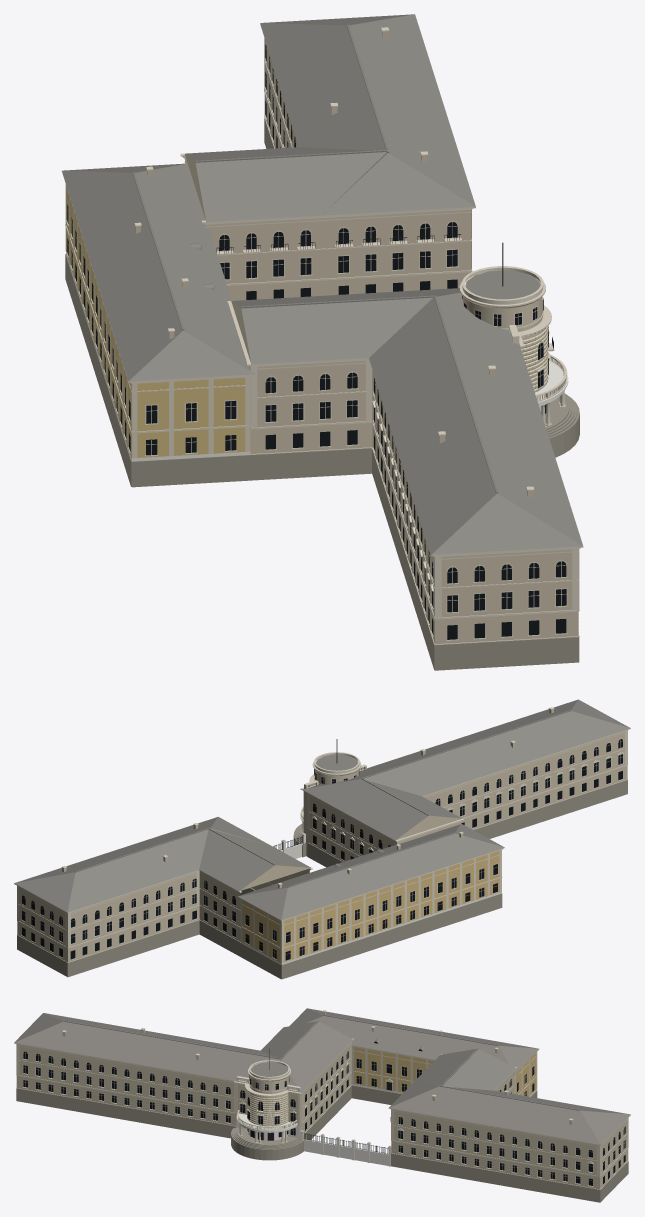
The model's file is sevgu_gogolya14.glb.
The picture shows the model from 3 angles, top to bottom: view 1: azimuth 30°, elevation 25°; view 2: azimuth 150°, elevation 25°; view 3: azimuth 270°, elevation 25°; orthographic projection. The views are drawn at different scales.
Visible parts, largest first — view 1: sevgu_gogolya14_roof, sevgu_gogolya14_wall, sevgu_gogolya14_trim, sevgu_gogolya14_stone, sevgu_gogolya14_glass, sevgu_gogolya14_wall2, sevgu_gogolya14_wall3, sevgu_gogolya14_wood; view 2: sevgu_gogolya14_roof, sevgu_gogolya14_wall, sevgu_gogolya14_trim, sevgu_gogolya14_stone, sevgu_gogolya14_wall2, sevgu_gogolya14_glass, sevgu_gogolya14_wall3; view 3: sevgu_gogolya14_roof, sevgu_gogolya14_wall, sevgu_gogolya14_trim, sevgu_gogolya14_stone, sevgu_gogolya14_glass, sevgu_gogolya14_wall2, sevgu_gogolya14_wall3, sevgu_gogolya14_wood, sevgu_gogolya14_metal.
Boxes of the visible parts, bbox=[...] form: sevgu_gogolya14_roof: bbox=[62, 14, 582, 554]; sevgu_gogolya14_wall: bbox=[135, 31, 578, 644]; sevgu_gogolya14_trim: bbox=[65, 24, 583, 645]; sevgu_gogolya14_stone: bbox=[65, 118, 579, 670]; sevgu_gogolya14_glass: bbox=[67, 44, 566, 639]; sevgu_gogolya14_wall2: bbox=[66, 187, 250, 461]; sevgu_gogolya14_wall3: bbox=[66, 252, 568, 461]; sevgu_gogolya14_wood: bbox=[521, 326, 548, 392]; sevgu_gogolya14_roof: bbox=[14, 699, 630, 920]; sevgu_gogolya14_wall: bbox=[17, 709, 627, 962]; sevgu_gogolya14_trim: bbox=[14, 707, 630, 962]; sevgu_gogolya14_stone: bbox=[17, 780, 627, 979]; sevgu_gogolya14_wall2: bbox=[242, 850, 499, 964]; sevgu_gogolya14_glass: bbox=[22, 739, 622, 960]; sevgu_gogolya14_wall3: bbox=[240, 811, 501, 964]; sevgu_gogolya14_roof: bbox=[14, 1008, 630, 1144]; sevgu_gogolya14_wall: bbox=[16, 1012, 628, 1189]; sevgu_gogolya14_trim: bbox=[14, 1010, 630, 1189]; sevgu_gogolya14_stone: bbox=[16, 1077, 628, 1202]; sevgu_gogolya14_glass: bbox=[23, 1041, 625, 1185]; sevgu_gogolya14_wall2: bbox=[354, 1047, 536, 1096]; sevgu_gogolya14_wall3: bbox=[236, 1084, 537, 1166]; sevgu_gogolya14_wood: bbox=[247, 1090, 288, 1126]; sevgu_gogolya14_metal: bbox=[250, 1049, 391, 1153].
Bounding box in the file's own units: 90.6 × 28.5 × 167.
